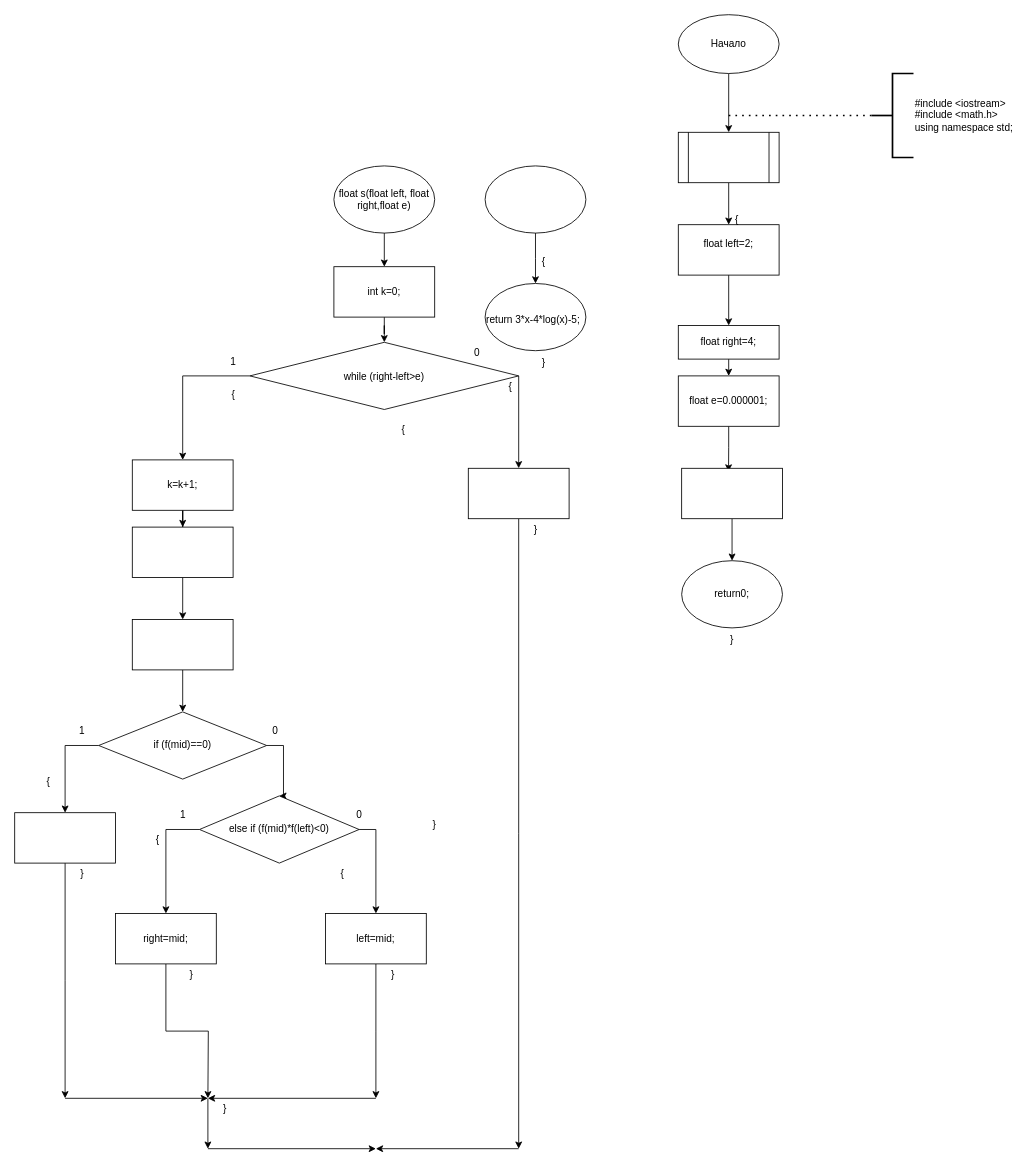
Some shapes in this 1028 by 1170 pixel diagram are drawn without their labels. The shapes that lost their labels are listed below. From the top down, each one's centre as x and y in pixels, then its label:
(728,157): int main()
(535,199): float fi(float x)
(518,493): return (left+right)/2
(731,493): s(left,right,e);
(182,552): float mid = (right+left)/2;
(182,644): cout<<'x'<<k<<" = " <<x<<endl;
(65,837): return mid;
